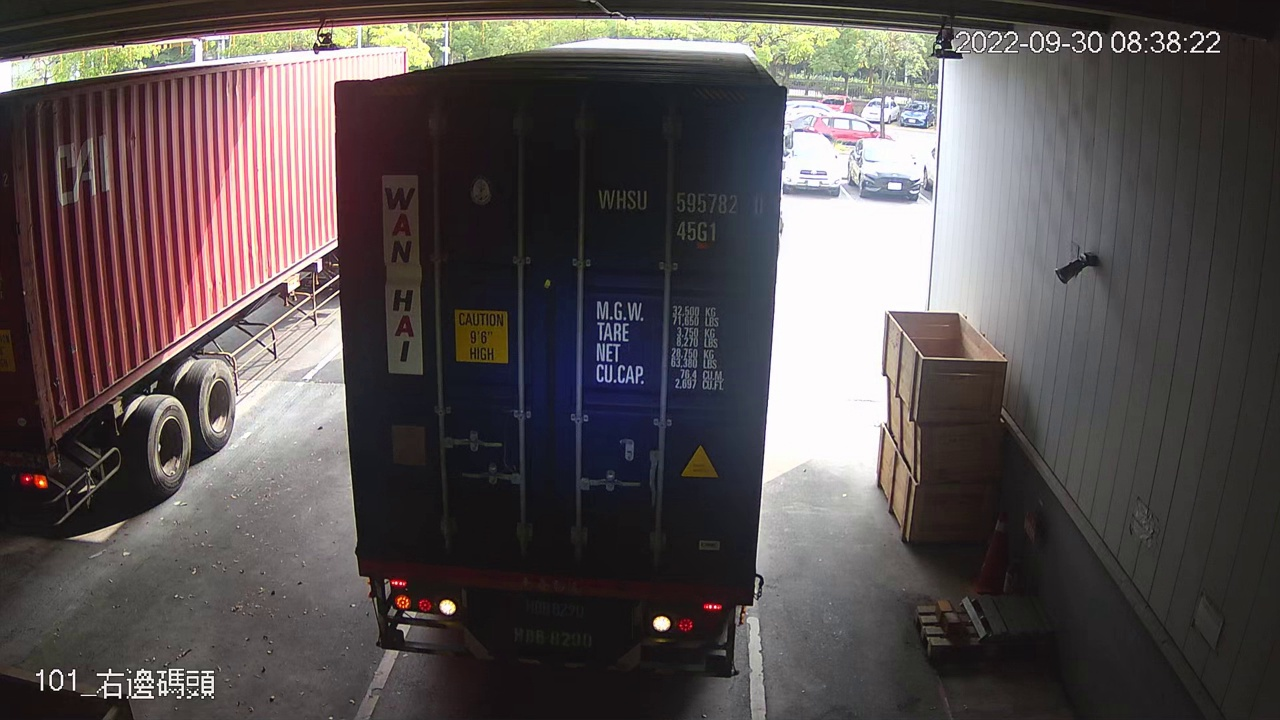container: (592, 180, 771, 250)
